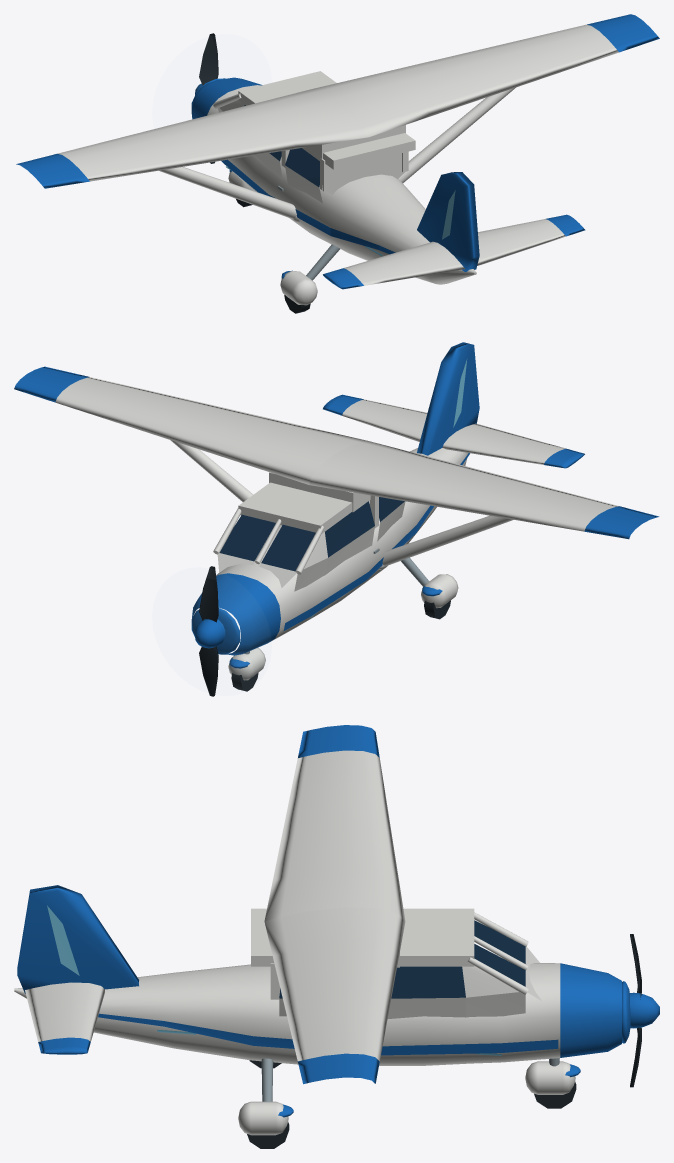
File: trainer.glb
The picture shows the model from 3 angles, top to bottom: view 1: azimuth 30°, elevation 25°; view 2: azimuth 150°, elevation 25°; view 3: azimuth 270°, elevation 25°; orthographic projection. The views are drawn at different scales.
Parts seen in each view (by area): view 1: AC_LIVERY_BASE, AC_LIVERY_PRIMARY, AC_GLASS, Propeller_Main_Blades; view 2: AC_LIVERY_BASE, AC_LIVERY_PRIMARY, AC_GLASS, Propeller_Main_Blades, AC_DARK; view 3: AC_LIVERY_BASE, AC_LIVERY_PRIMARY, AC_GLASS, AC_DARK, AC_LIVERY_ACCENT, Propeller_Main_Blades.
Part boxes in pixels (box(x1,y1,x2,y2)): AC_LIVERY_BASE: box(58, 24, 618, 305); AC_LIVERY_PRIMARY: box(16, 14, 659, 289); AC_GLASS: box(244, 105, 319, 187); Propeller_Main_Blades: box(199, 33, 218, 163); AC_LIVERY_BASE: box(55, 377, 618, 680); AC_LIVERY_PRIMARY: box(14, 342, 659, 668); AC_GLASS: box(219, 497, 404, 571); Propeller_Main_Blades: box(199, 566, 218, 696); AC_DARK: box(231, 600, 450, 691); AC_LIVERY_BASE: box(14, 750, 575, 1135); AC_LIVERY_PRIMARY: box(17, 725, 659, 1117); AC_GLASS: box(279, 920, 525, 998); AC_DARK: box(247, 1060, 576, 1148); AC_LIVERY_ACCENT: box(47, 905, 501, 1055); Propeller_Main_Blades: box(630, 934, 641, 1087).
Size of the model in its own units: 8.4 by 2.42 by 6.51.
